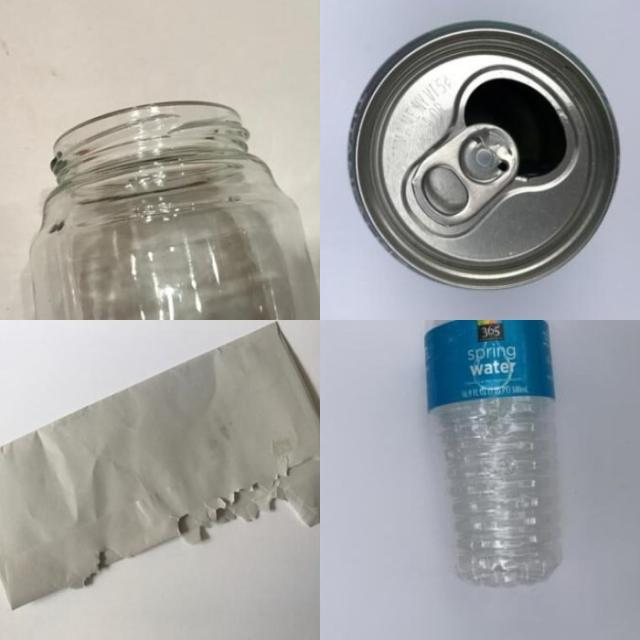glass: (41, 100, 316, 324)
metal: (360, 27, 626, 289)
paper: (13, 362, 309, 574)
plastic: (424, 312, 578, 588)
